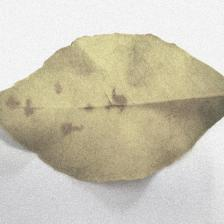black spot: (3, 76, 130, 140)
